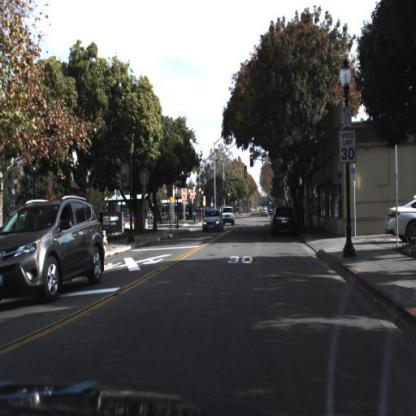car: (1, 196, 106, 308), (384, 199, 416, 240), (269, 204, 298, 238), (203, 207, 224, 232), (222, 205, 237, 228)
trafficLight-Red: (248, 153, 256, 170)
